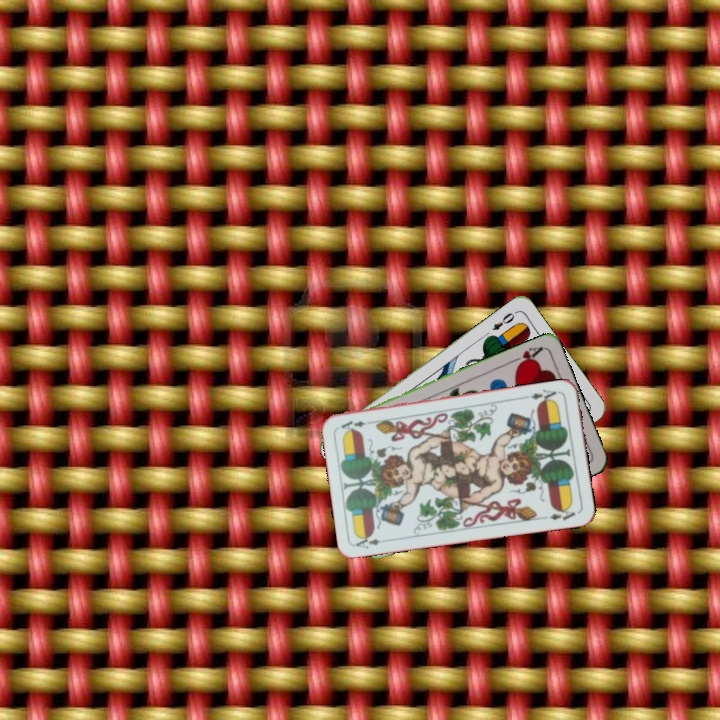EA: (352, 531, 392, 551), (527, 385, 562, 406)
EO: (488, 309, 517, 333)
HA: (507, 342, 546, 370)
